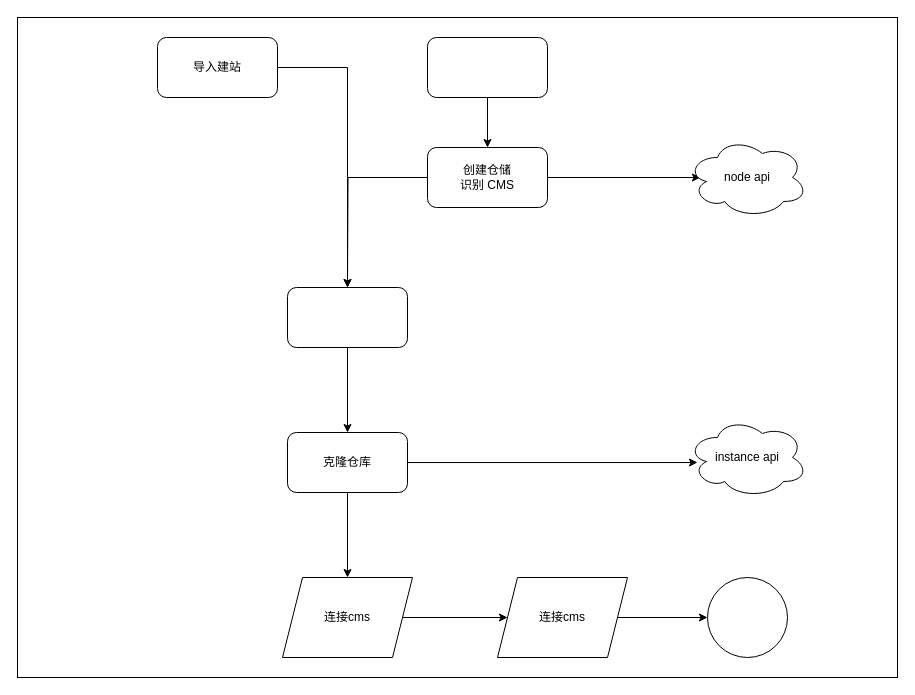
Image size: 915x695. Some labels were removed from this diagram. The shapes that lost their labels are listed below. From the top down, each one's centre as x and y in pixels, then its label:
At pixel 487 67: "模板建站".
At pixel 347 317: "创建站点 绑定仓储".
At pixel 747 617: "done".
